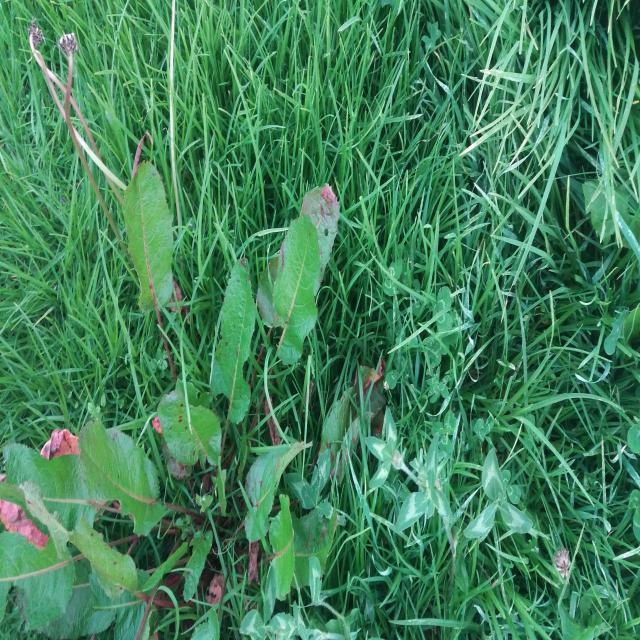Four Leaf Clover: (463, 449, 533, 538)
